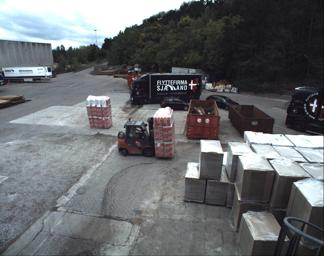rockwool_batts: (152, 107, 176, 157), (85, 94, 111, 127)
